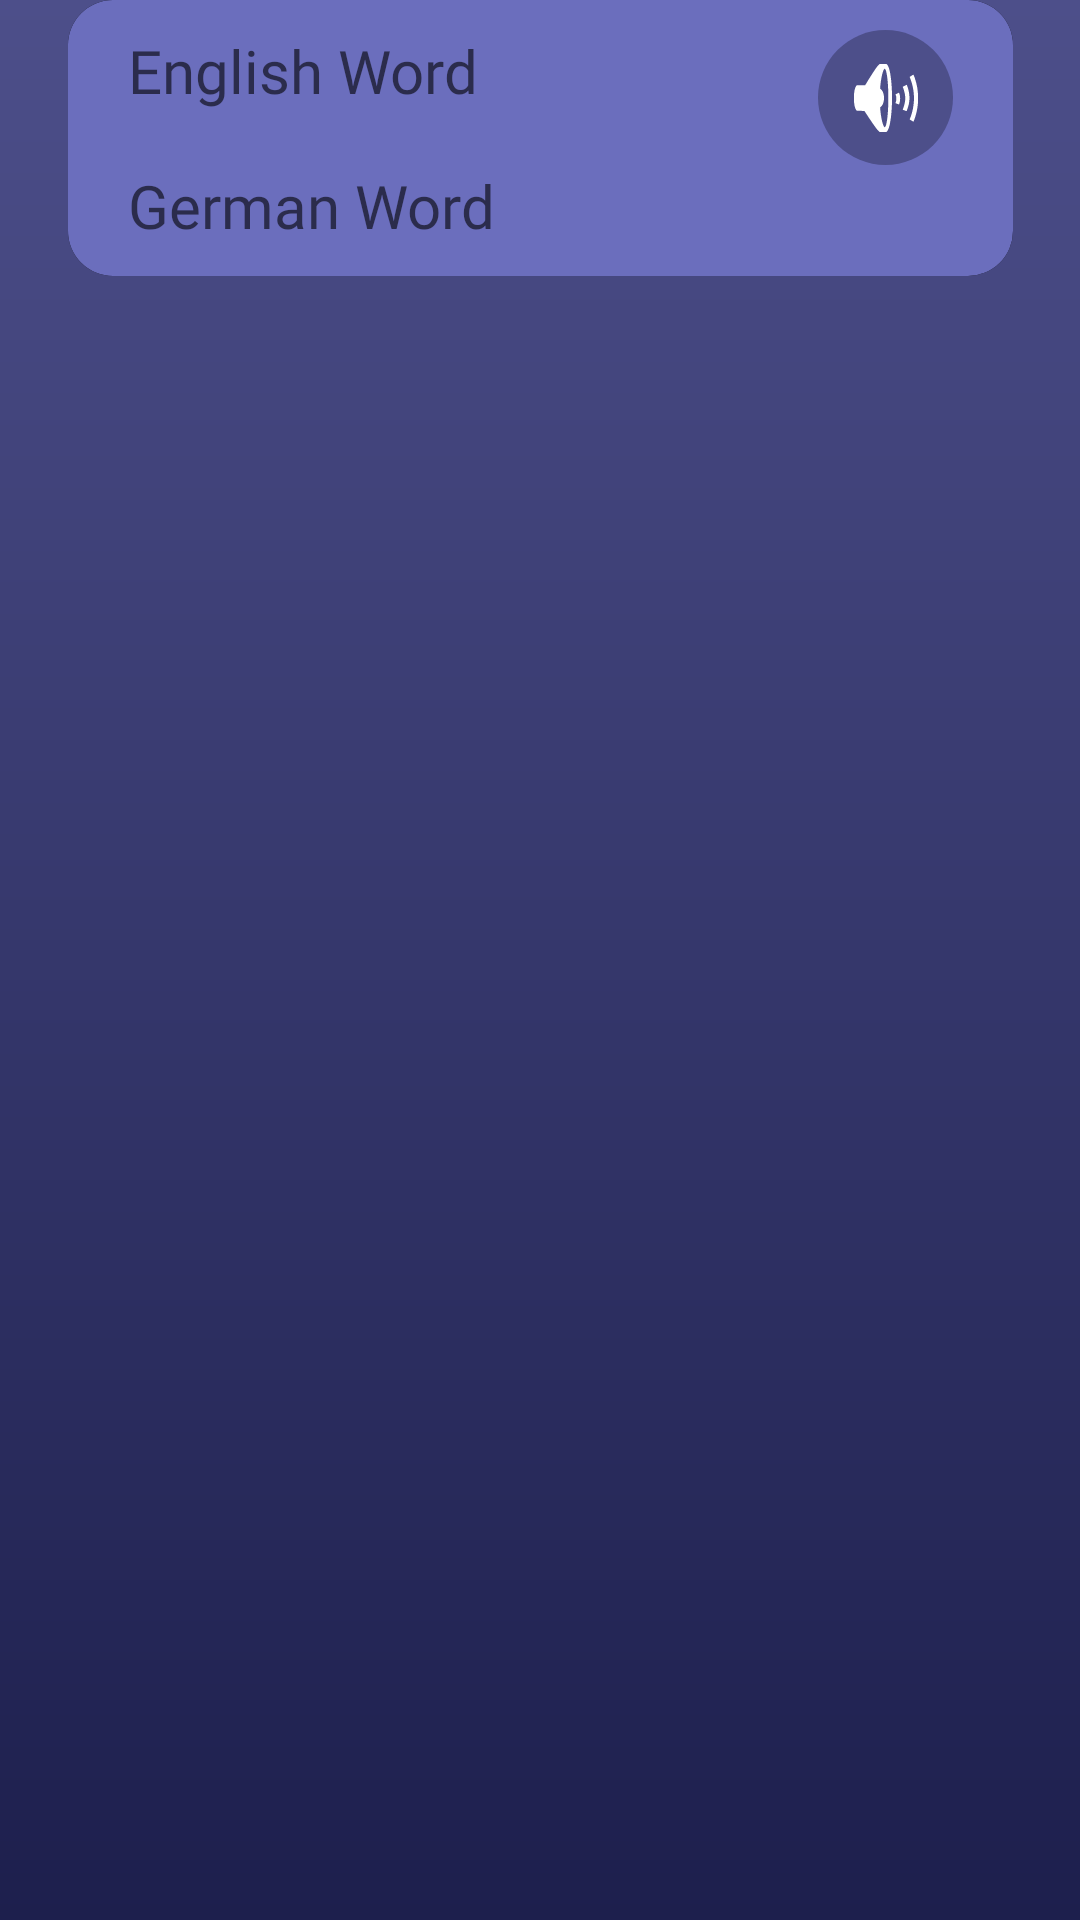

Icons on this 1080 x 1920 Android screen, each with its box as (x1, y1, x2, y2):
lock silent mode off: (818, 30, 953, 165)
